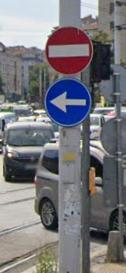turnleft: (44, 80, 90, 125)
